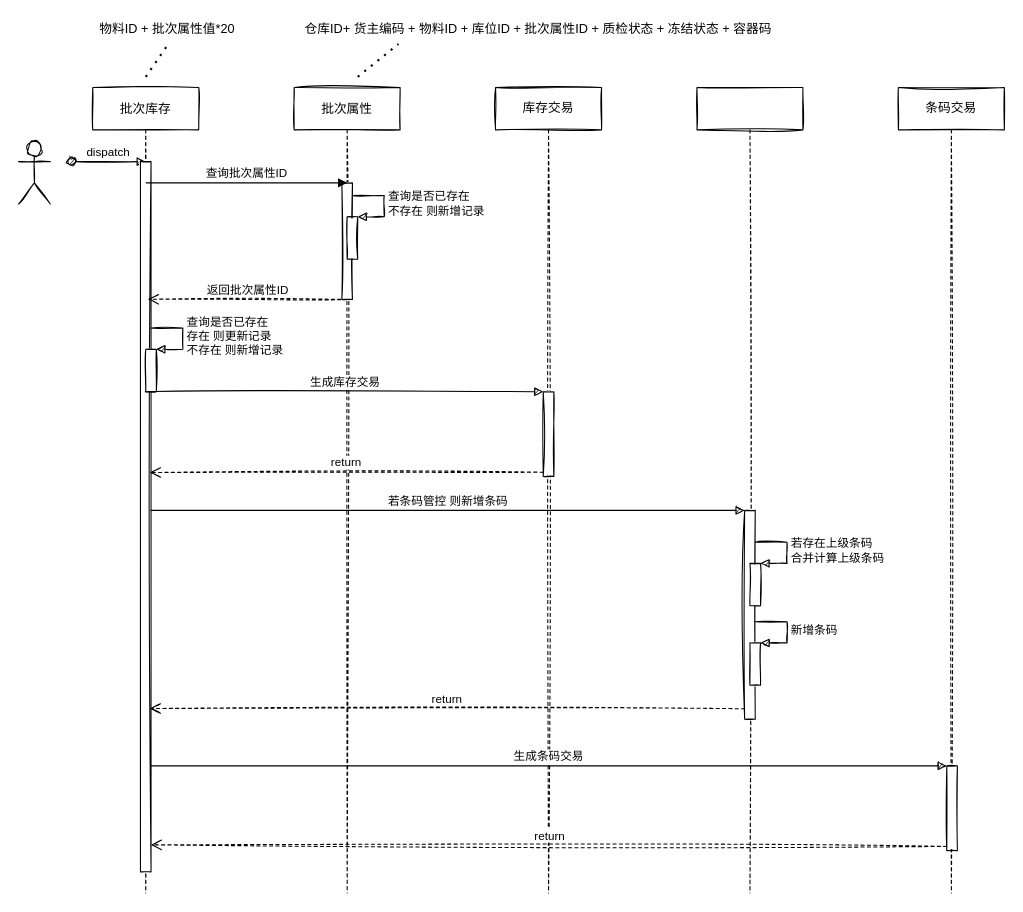
Image size: 1023x912. Some labels were removed from this diagram. Here are the shapes that lost their labels. From the top down, the centre of each, then its label:
(33,171): Client
(749,489): 条码
